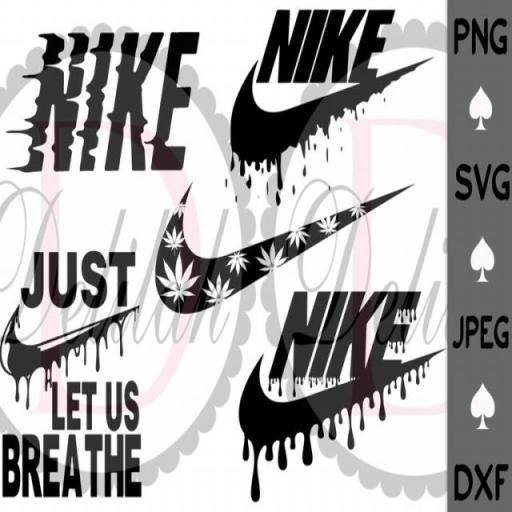Nike: (158, 186, 416, 316), (258, 8, 396, 85)
